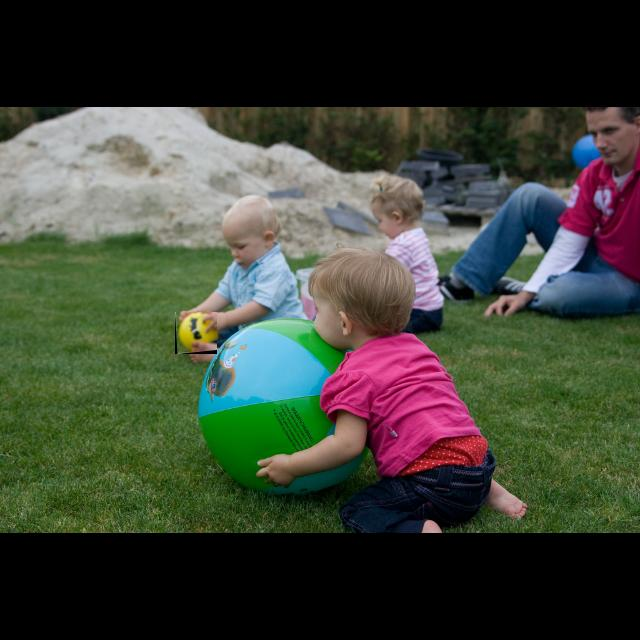Football: (175, 312, 217, 354)
